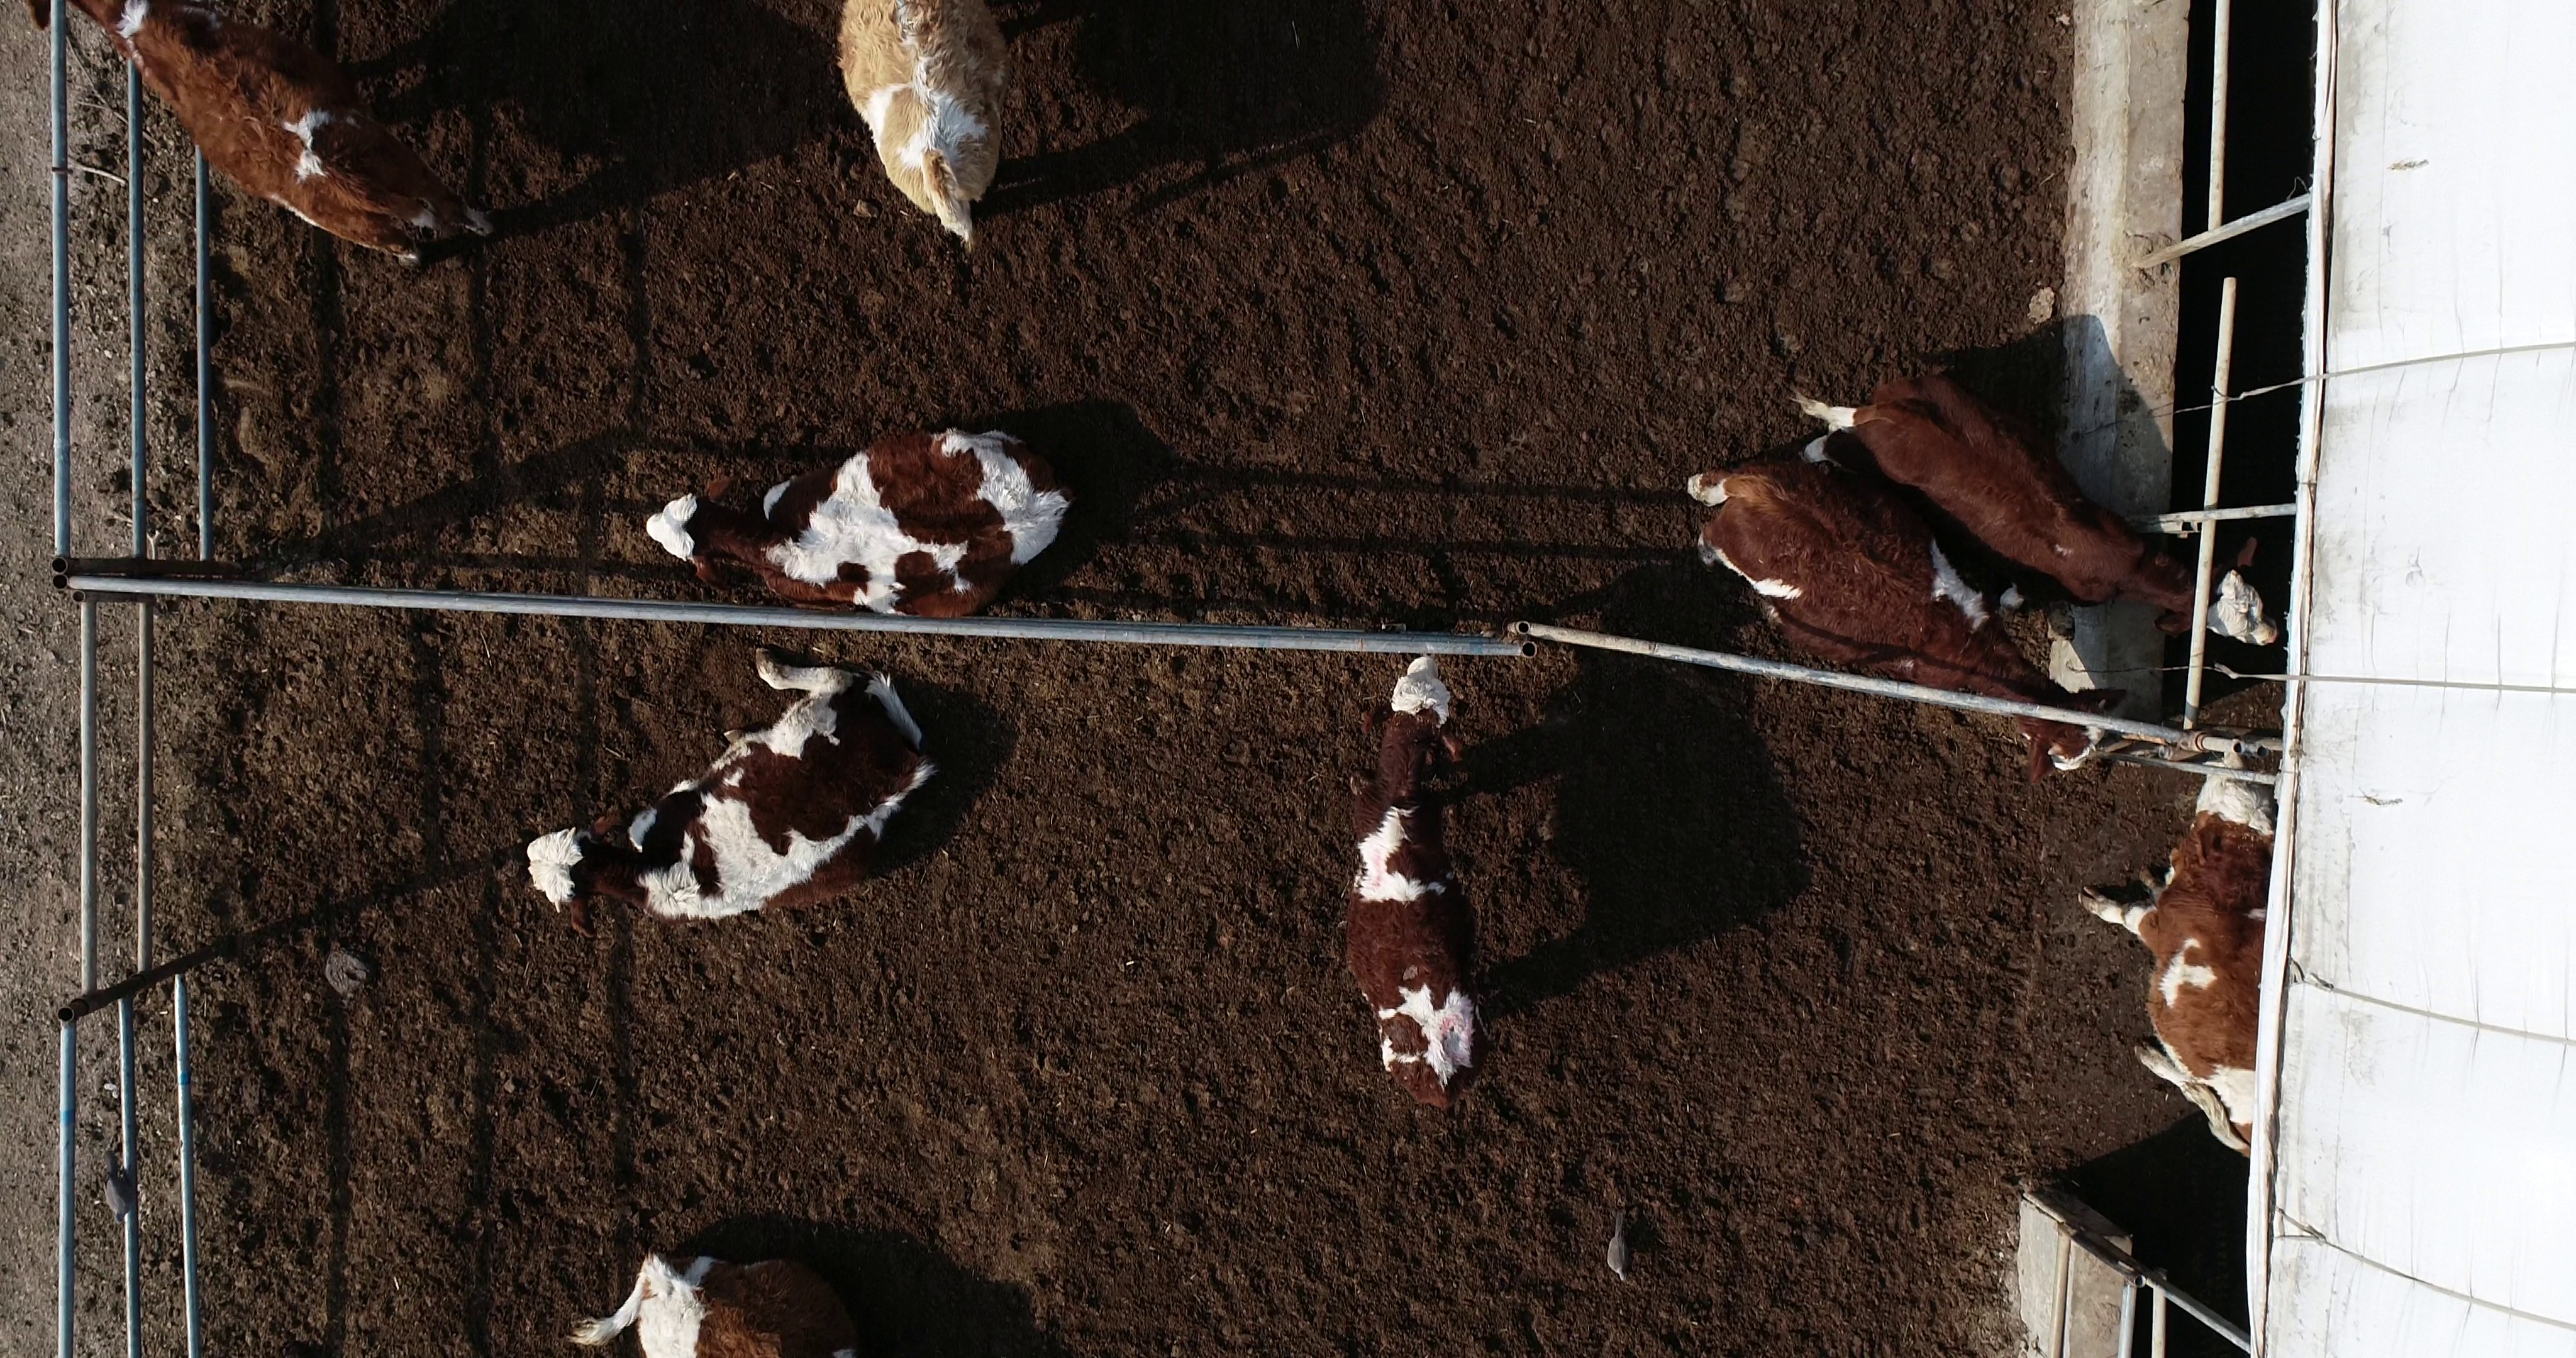cattle: (1675, 453, 2133, 803), (1791, 348, 2285, 649), (513, 646, 939, 946), (630, 417, 1084, 649), (1329, 656, 1492, 1121)
